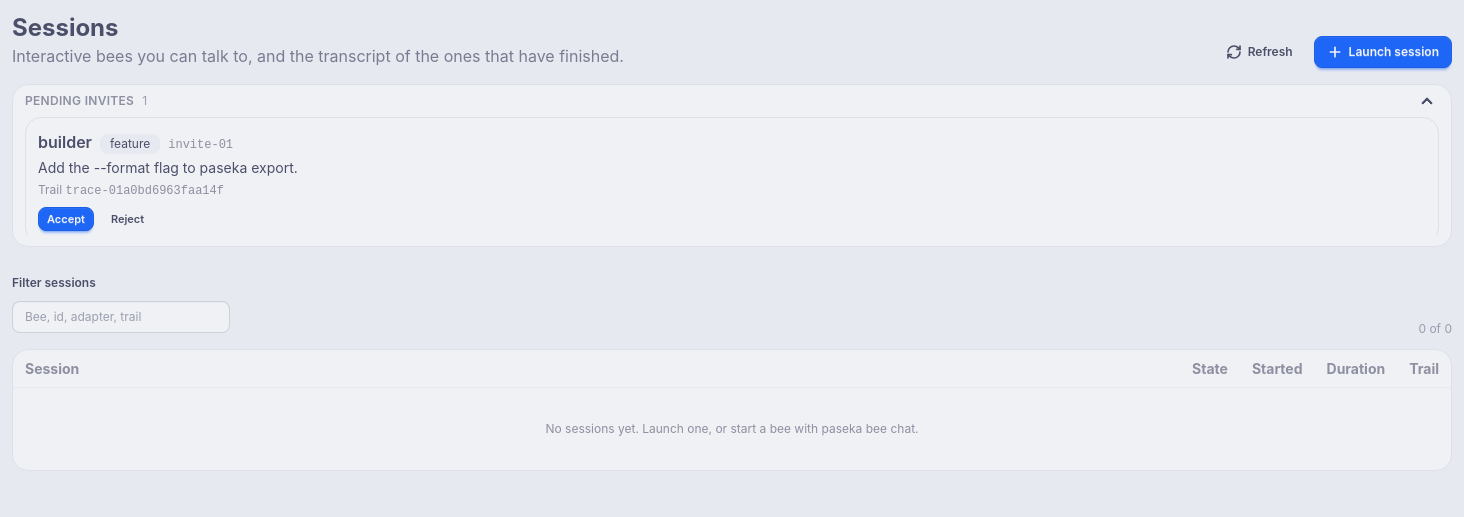
Test: sessions list › shows an invite failure in place, not as the page
Step 1. Click the button "Accept" → {"x": 66, "y": 219}, box [38,207,94,231]
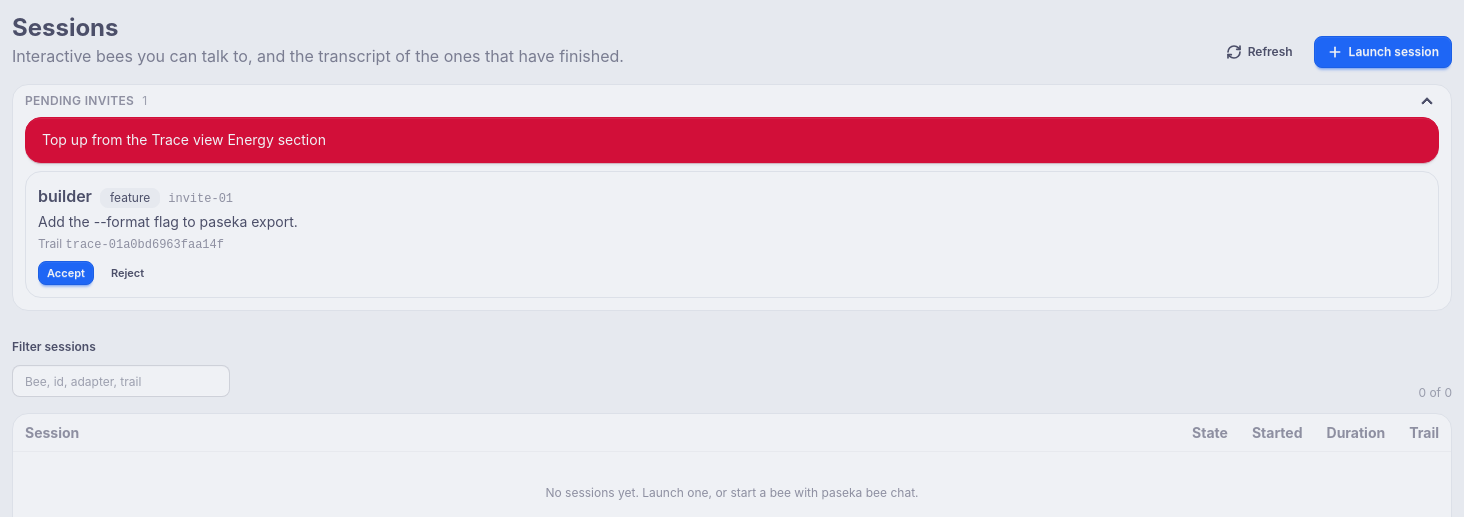
Result: the message shows "Top up from the Trace view" at [42,131,326,148]
